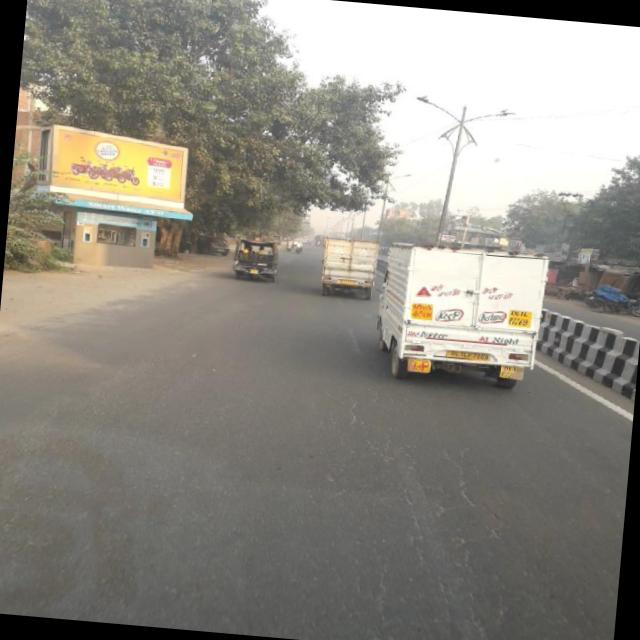crack: (303, 374, 561, 640)
